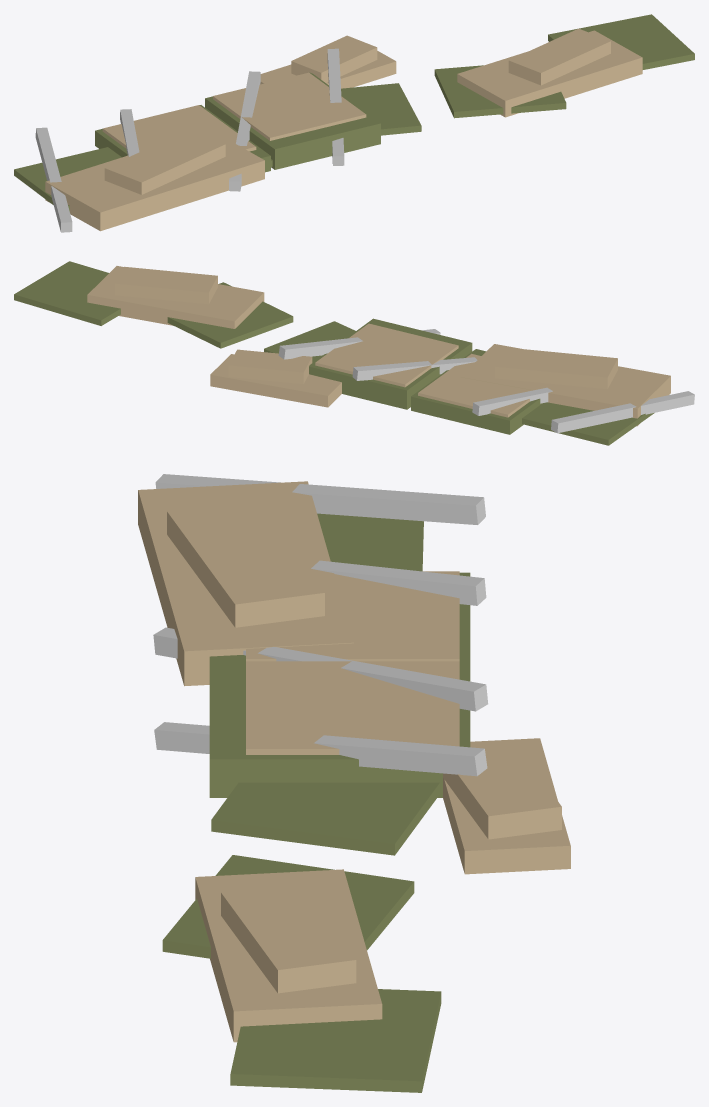
File: SM_HescoCorto4_v2_Escalonado_e3_Brecha_LOD1.fbx
The picture shows the model from 3 angles, top to bottom: view 1: azimuth 30°, elevation 25°; view 2: azimuth 150°, elevation 25°; view 3: azimuth 270°, elevation 25°; orthographic projection. The views are drawn at different scales.
Parts seen in each view (by area): view 1: SM_hesco_piezas_v111_LOD1; view 2: SM_hesco_piezas_v111_LOD1; view 3: SM_hesco_piezas_v111_LOD1.
Boxes of the visible parts, x1,y1,x2,y2 form: SM_hesco_piezas_v111_LOD1: [14, 14, 694, 232]; SM_hesco_piezas_v111_LOD1: [14, 261, 694, 445]; SM_hesco_piezas_v111_LOD1: [138, 474, 570, 1092].
Size of the model in its own units: 6.66 by 0.351 by 2.02.
